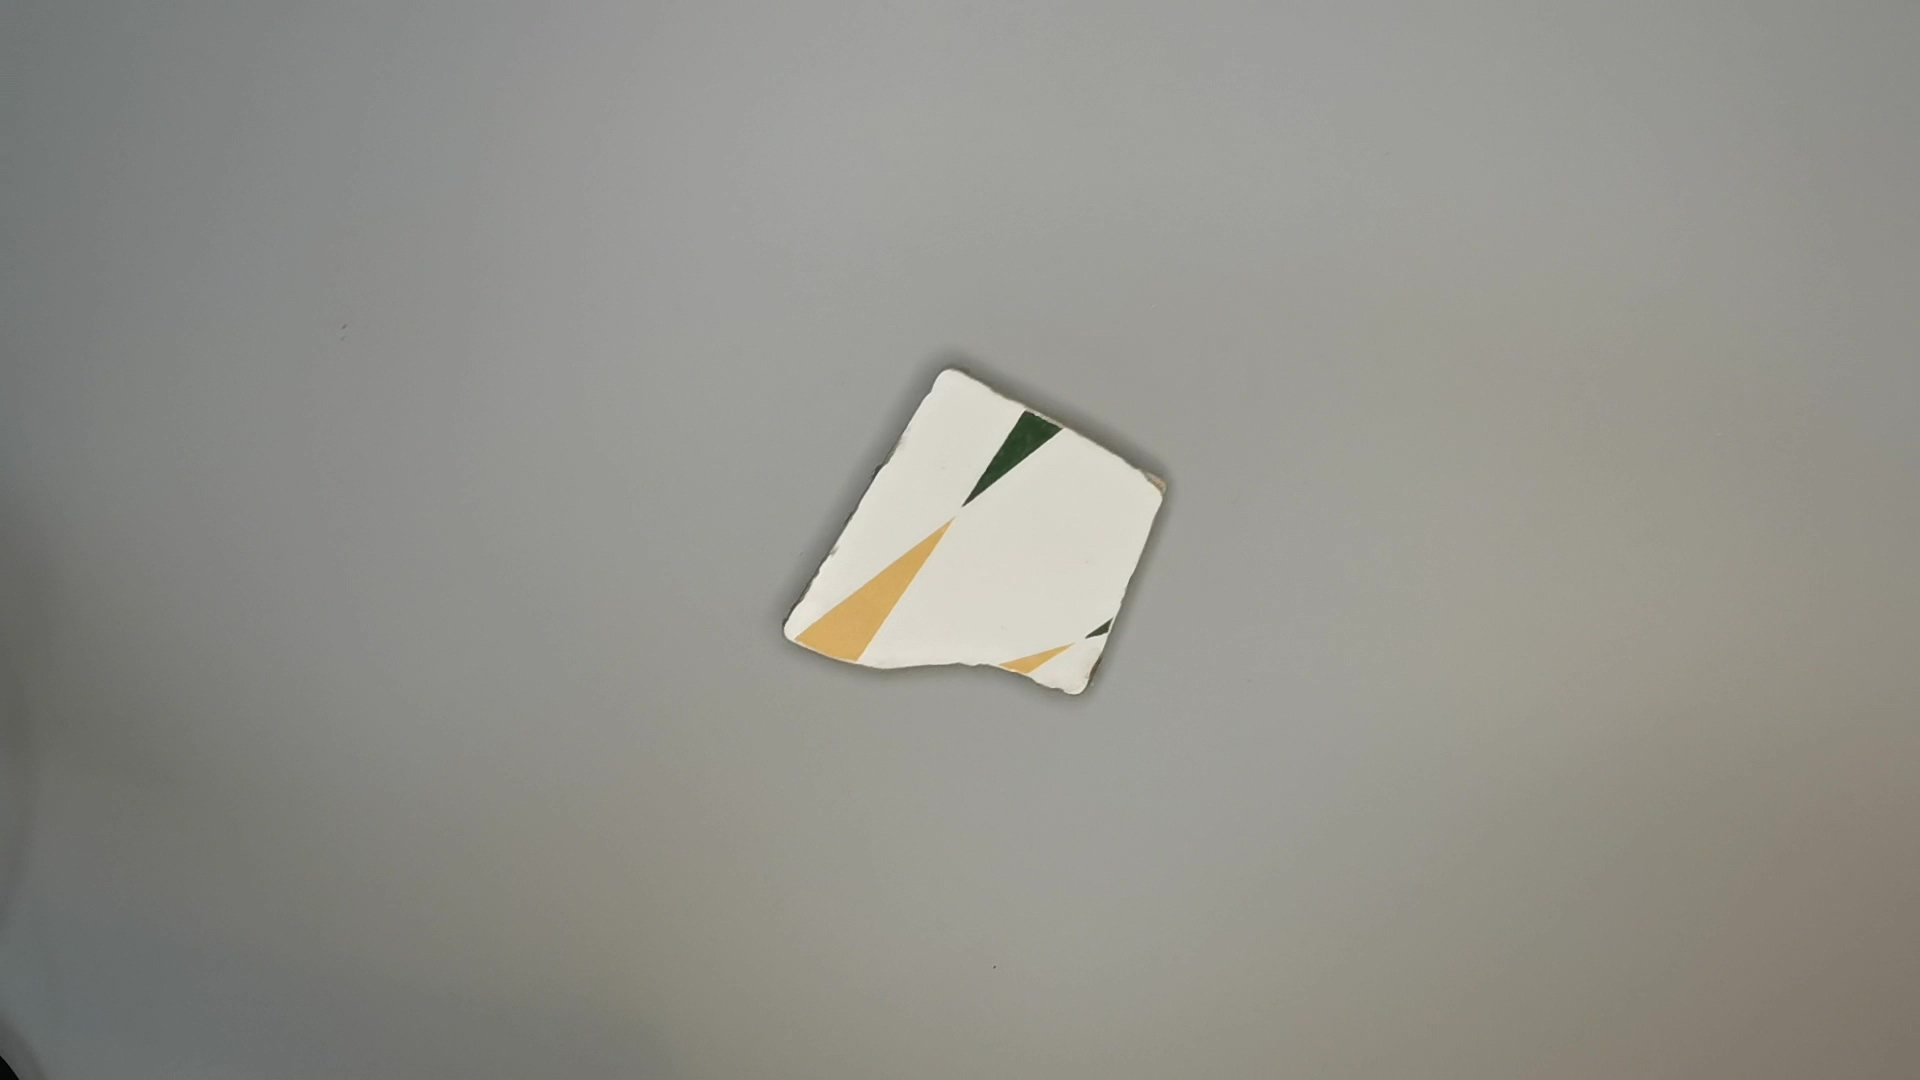ceramic: (781, 353, 1175, 704)
